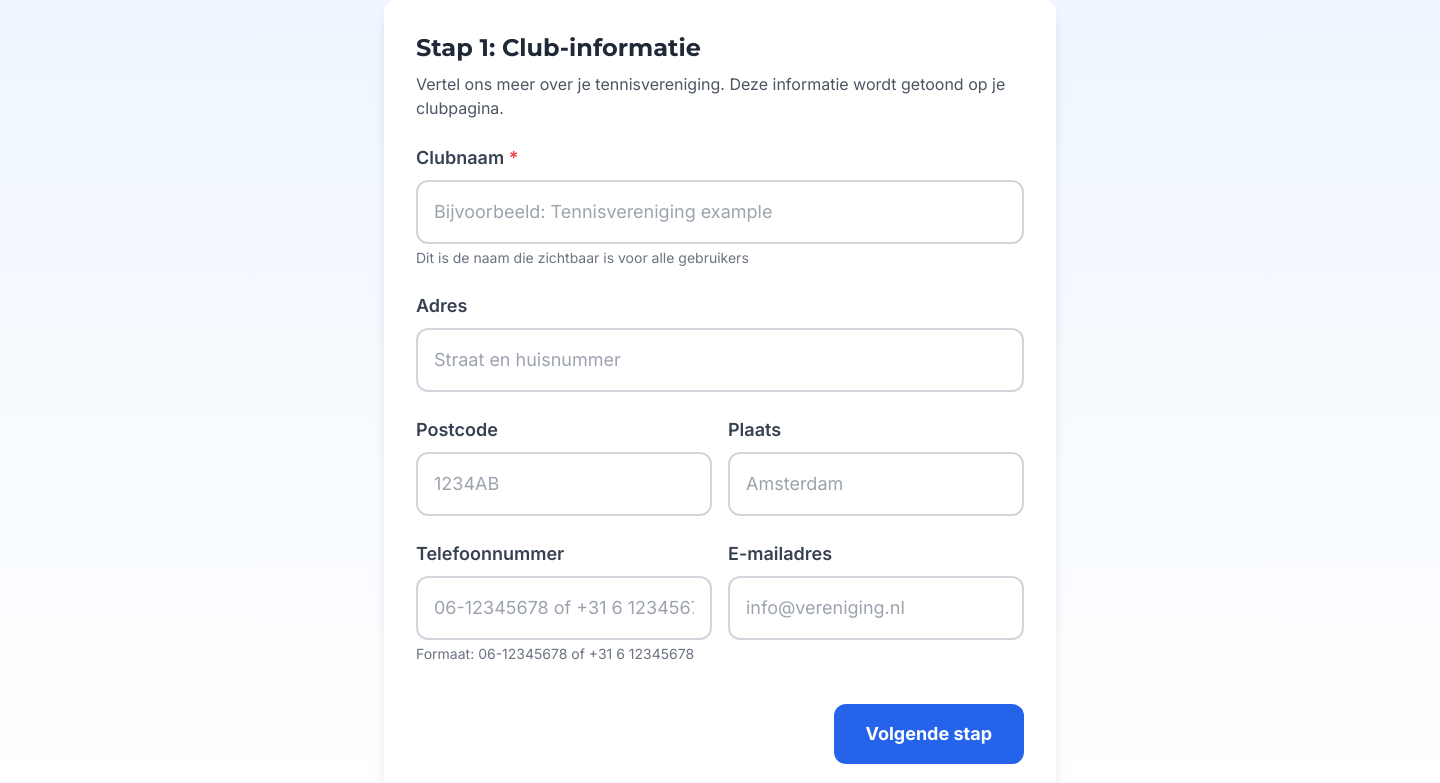
Test: ClubStep › Submit › should show API error on save failure
Step 1. Type "Tennis Club" into the field labelled "Clubnaam *" → (720,212), box 416,180 -> 1024,244
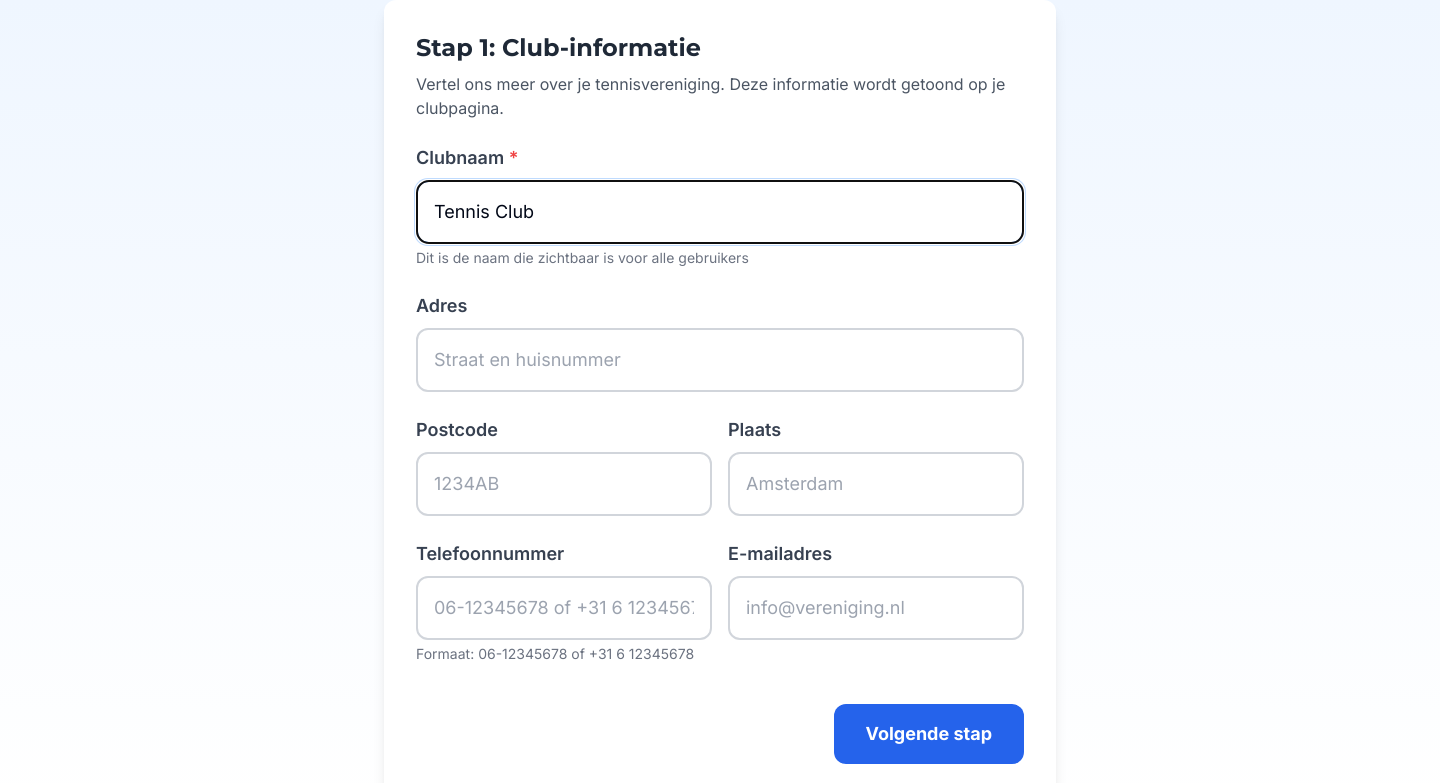
Step 2. Click the button "Volgende stap" → (929,734), box 834,704 -> 1024,764
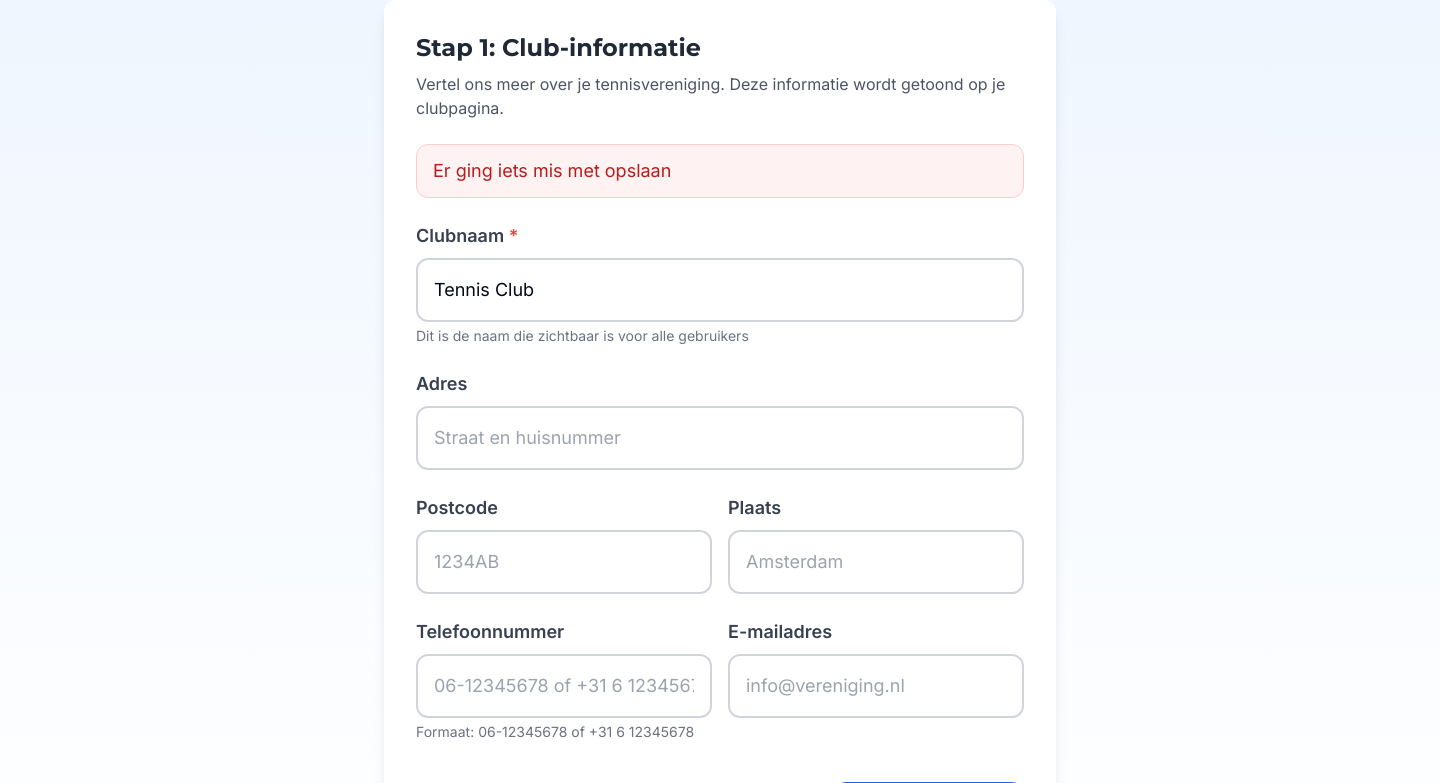
Now the text "Er ging iets mis met opslaan" is shown, box 416,144 -> 1024,198
